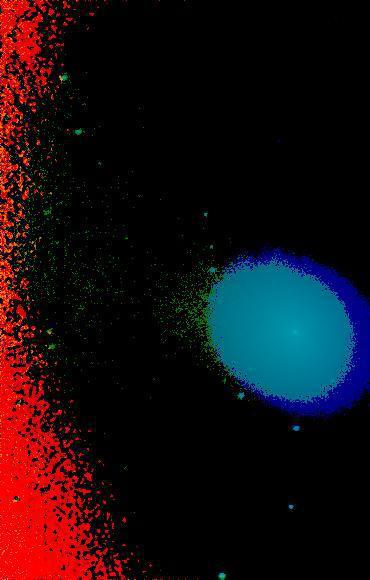star: (206, 367, 236, 397)
